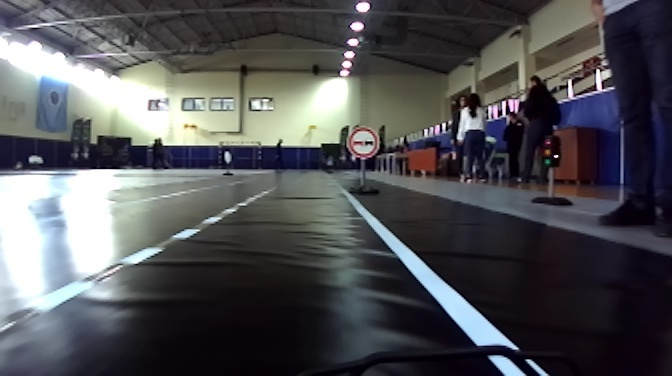sollama_yasak: (346, 125, 379, 160)
